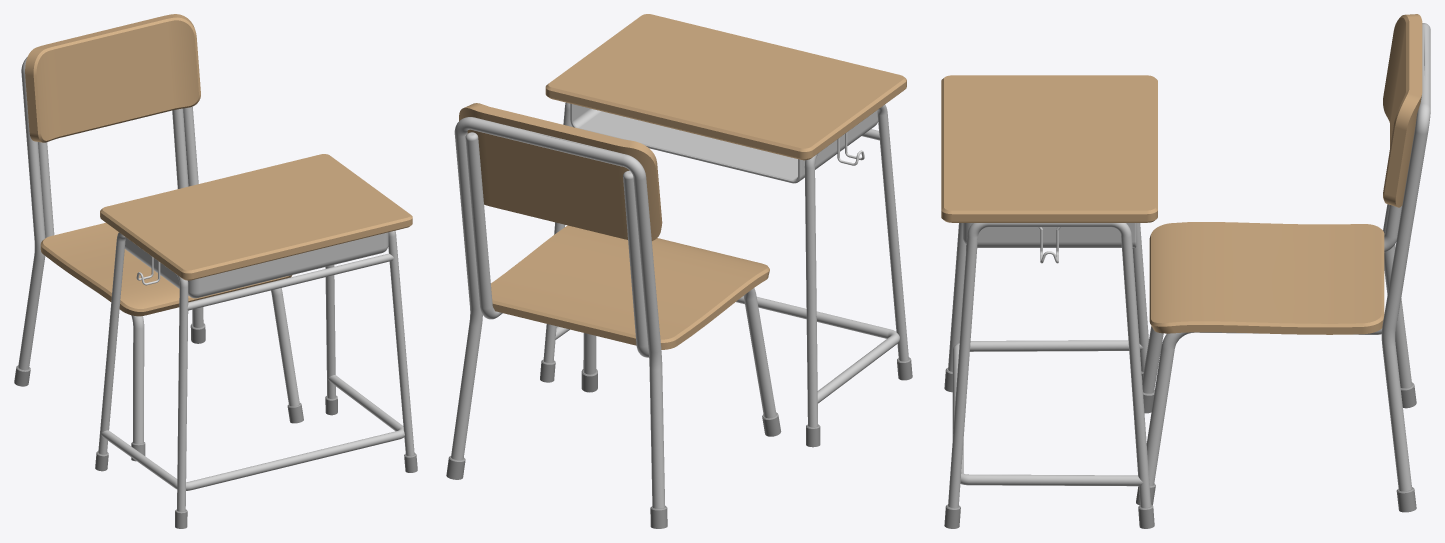
The model's file is 714_school_desk_set_M.glb.
3 views of the same model, side by side, from view 1: azimuth 30°, elevation 25°; view 2: azimuth 150°, elevation 25°; view 3: azimuth 270°, elevation 25° (orthographic). The views are drawn at different scales.
Parts seen in each view (by area): view 1: desk, chair; view 2: chair, desk; view 3: desk, chair.
Boxes of the visible parts, <box> form: desk: <box>95,154,417,528</box>; chair: <box>14,14,303,461</box>; chair: <box>446,103,781,528</box>; desk: <box>540,14,912,447</box>; desk: <box>941,75,1157,528</box>; chair: <box>1136,14,1430,512</box>.
Bounding box in the file's own units: 0.628 × 0.8195 × 0.9034.
